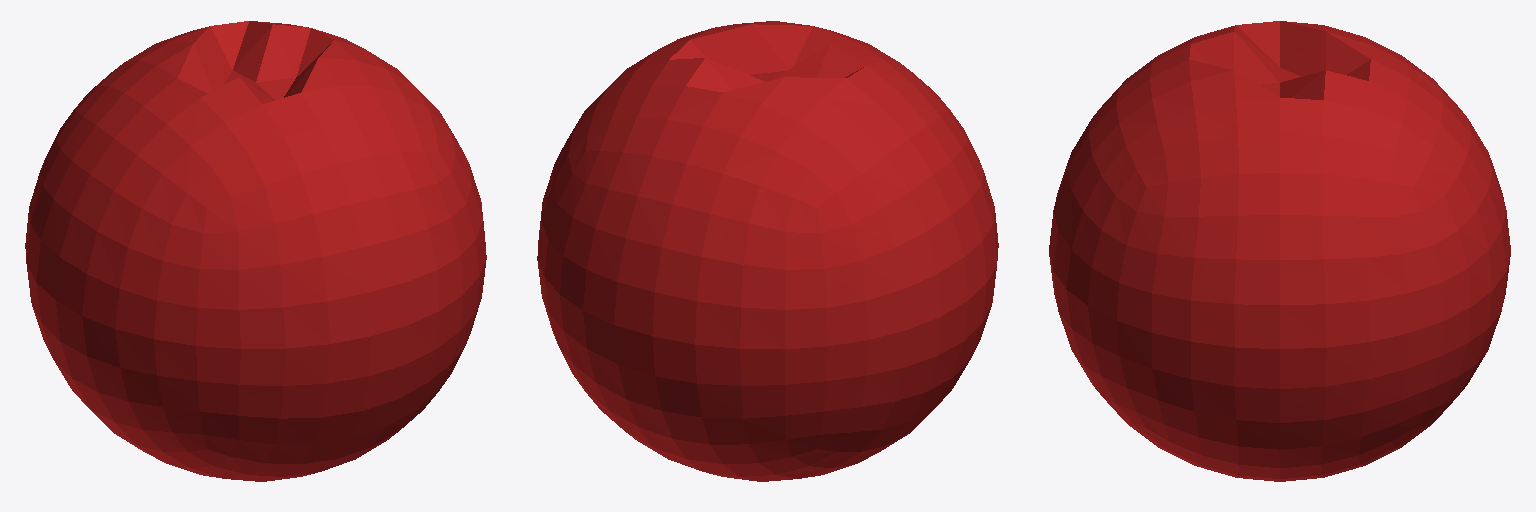
The model's file is Apple.obj.
3 renders of one model, left to right at view 1: azimuth 30°, elevation 25°; view 2: azimuth 150°, elevation 25°; view 3: azimuth 270°, elevation 25°, orthographic.
Visible parts, largest first — view 1: Apple; view 2: Apple; view 3: Apple.
Boxes of the visible parts, x1=… form: Apple: x1=25, y1=21, x2=486, y2=481; Apple: x1=537, y1=21, x2=998, y2=481; Apple: x1=1049, y1=21, x2=1510, y2=481.
Bounding box in the file's own units: 1 × 0.9792 × 1.